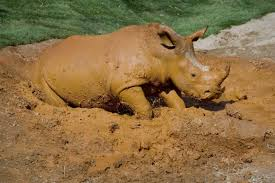Rhinoceros: (25, 21, 232, 127)
